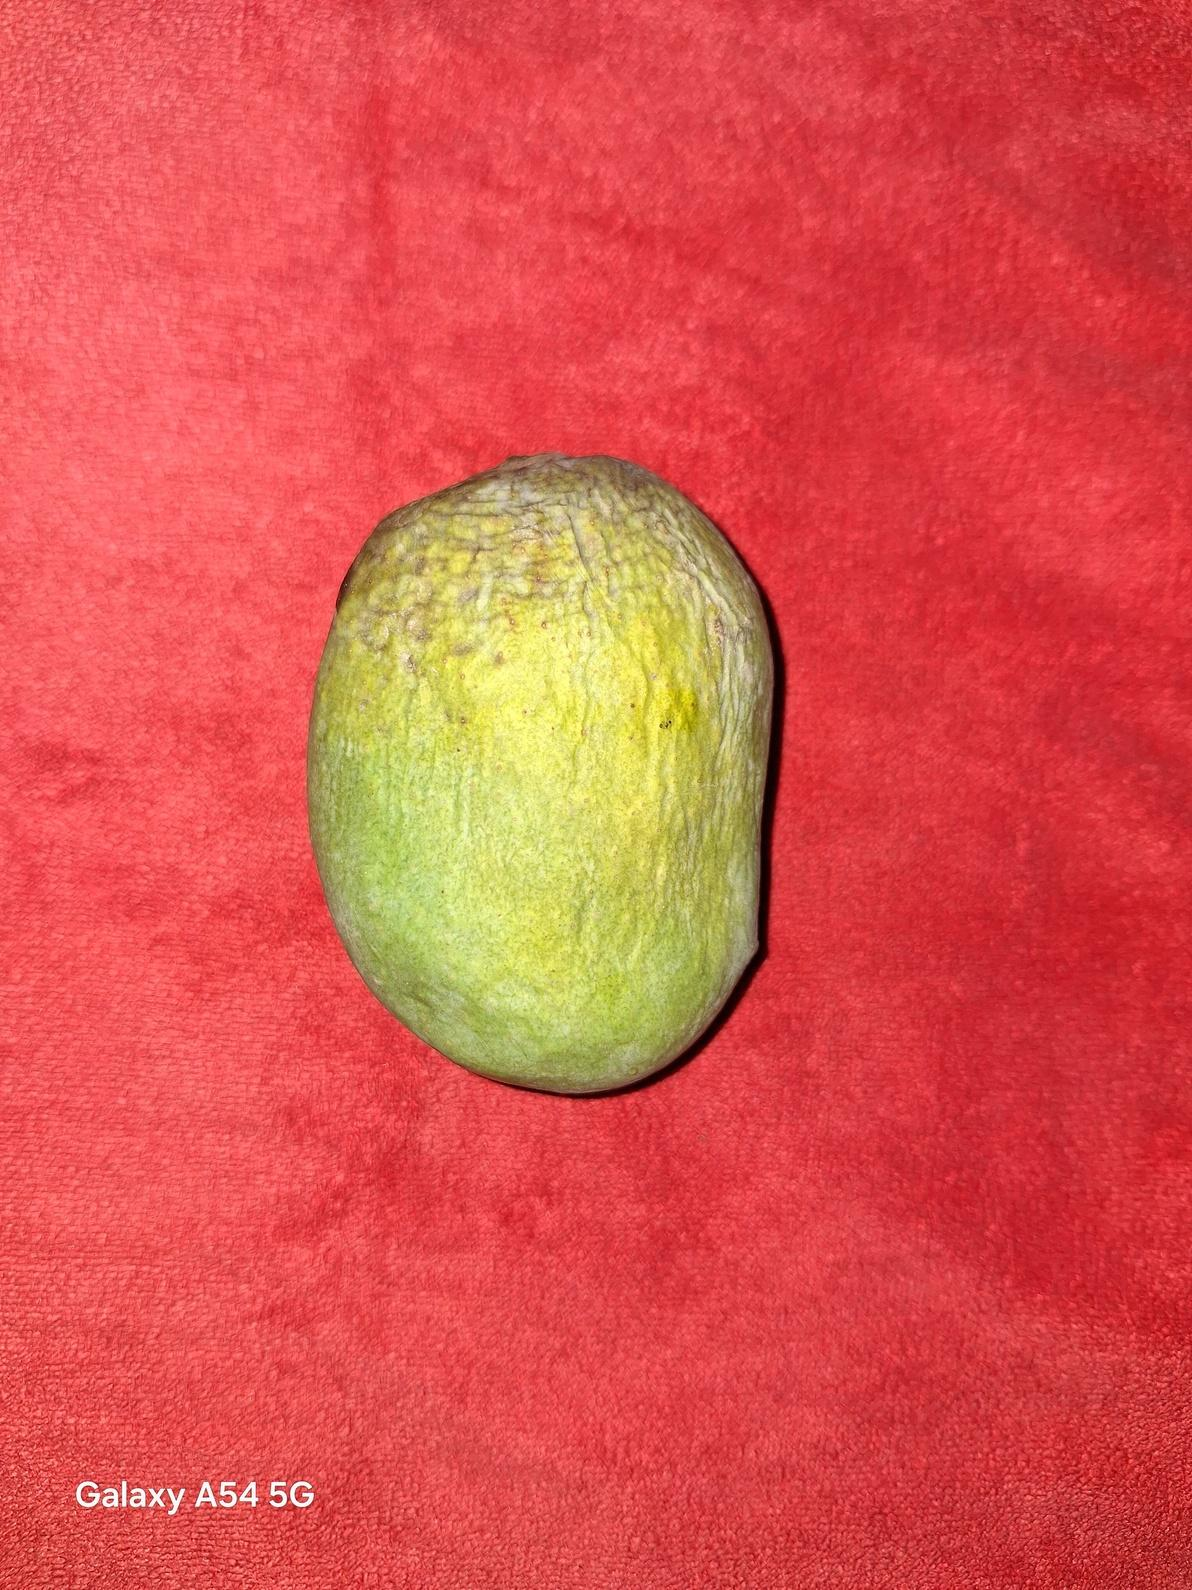mango: (304, 449, 776, 1095)
